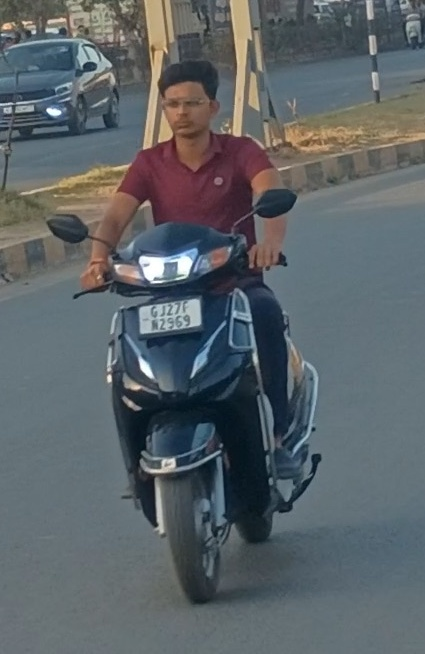BikeWithRider: (40, 52, 333, 611)
NoHelmet: (144, 52, 228, 146)
